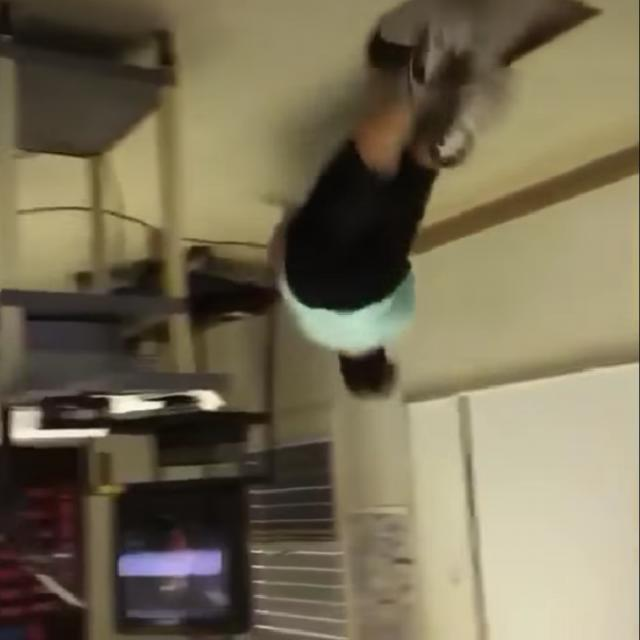fall: (272, 29, 506, 398)
